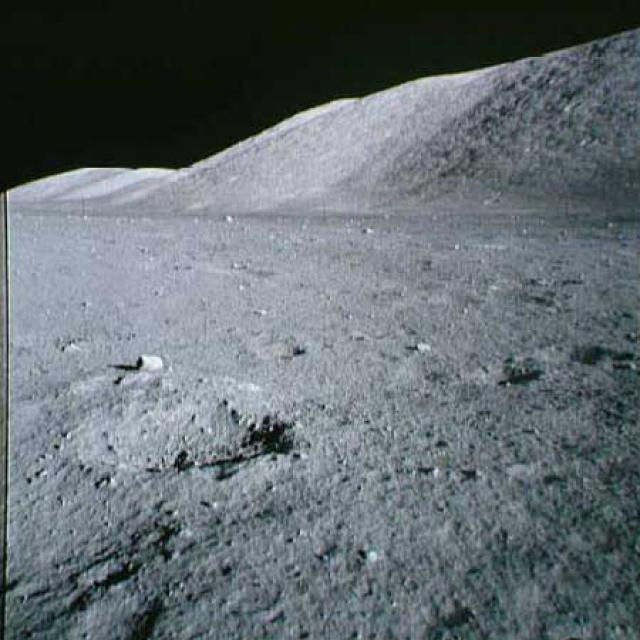crater: (77, 393, 281, 473), (552, 334, 632, 372), (481, 355, 537, 390)
rock: (134, 344, 170, 373)
